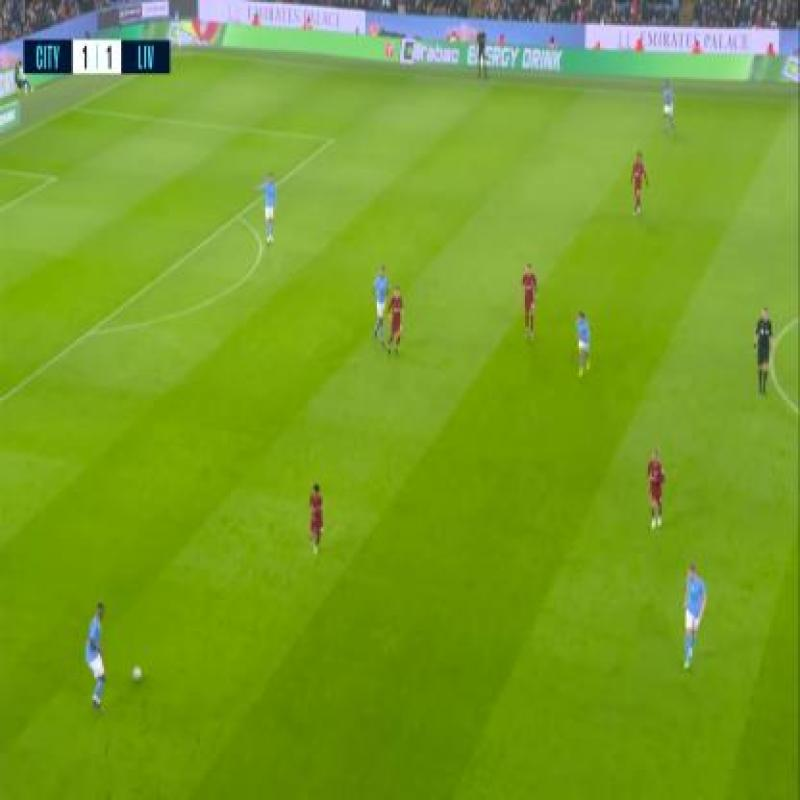1: (171, 43, 196, 66)
10: (231, 198, 252, 229)
11: (84, 312, 106, 350)
2: (66, 92, 86, 121)
7: (43, 168, 64, 194)
9: (321, 125, 344, 162)
c: (760, 333, 798, 369)
